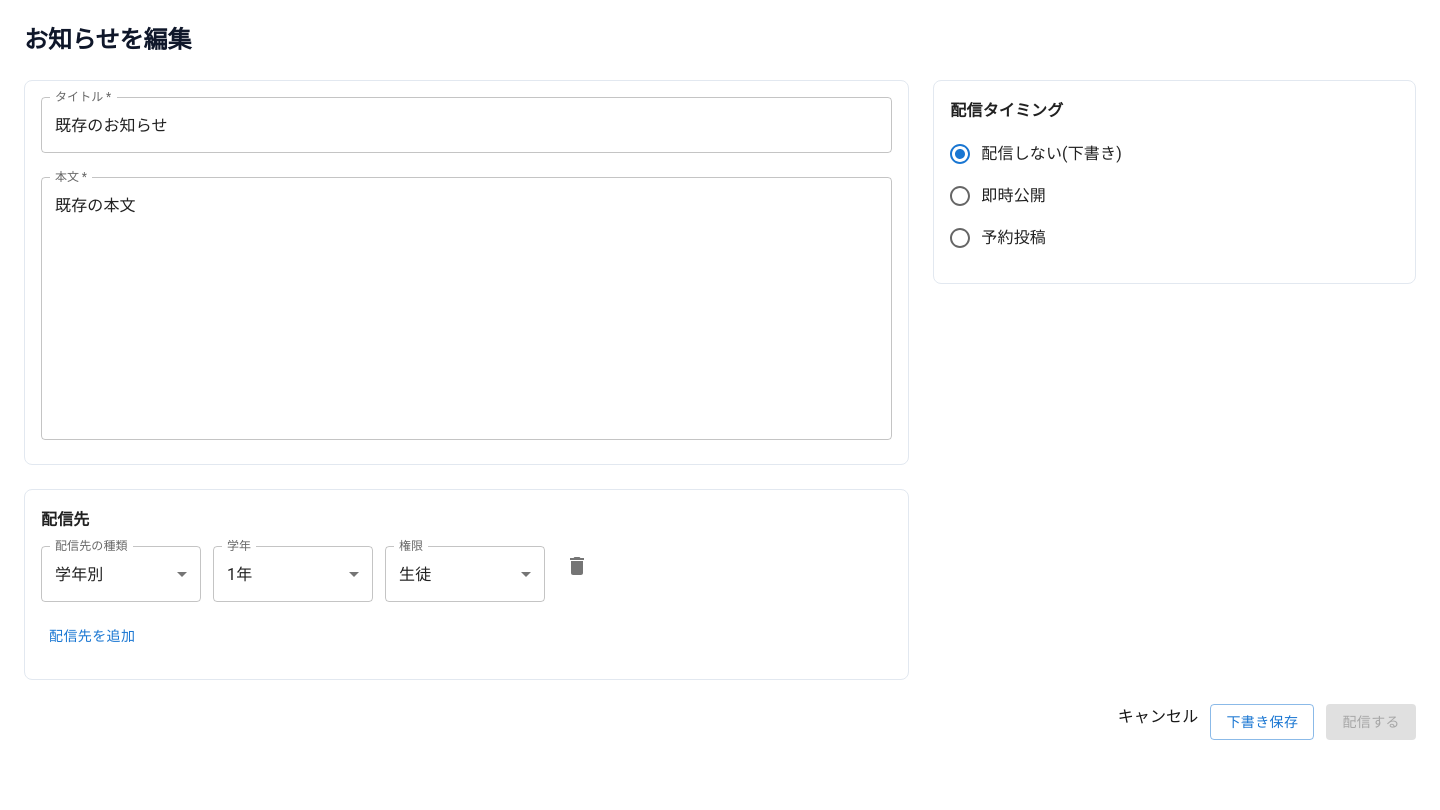
AnnouncementEditorPresenter › 編集時 › 学年制限のある教員は、編集時も配信先の種類を学年別・個人からしか選べない
Press the mouse on the dropdown named "配信先の種類" at (79, 574), box [55,564,104,584]
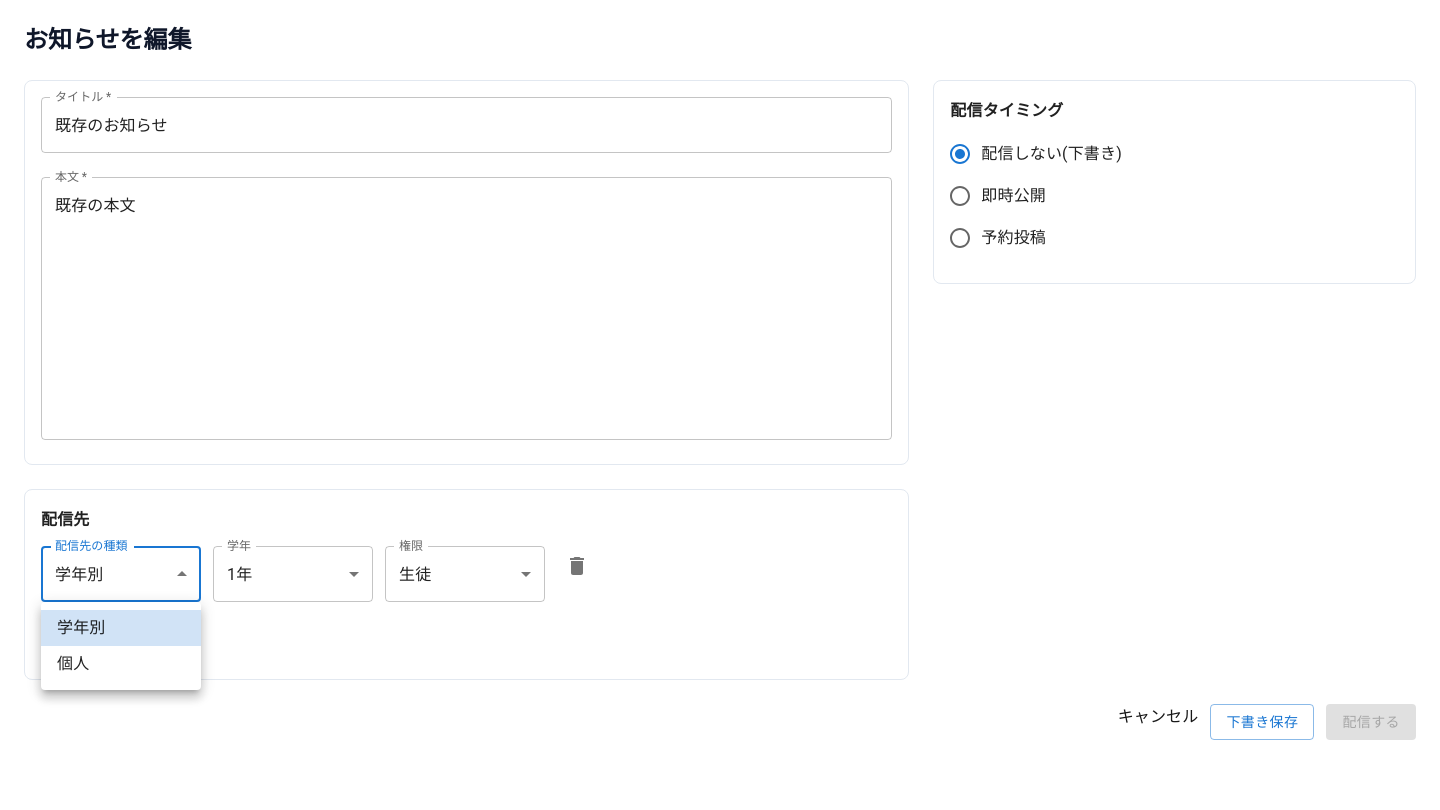
Check: the options read "学年別", "個人", in this order, box [41,610,201,646]; [57,654,89,673]
